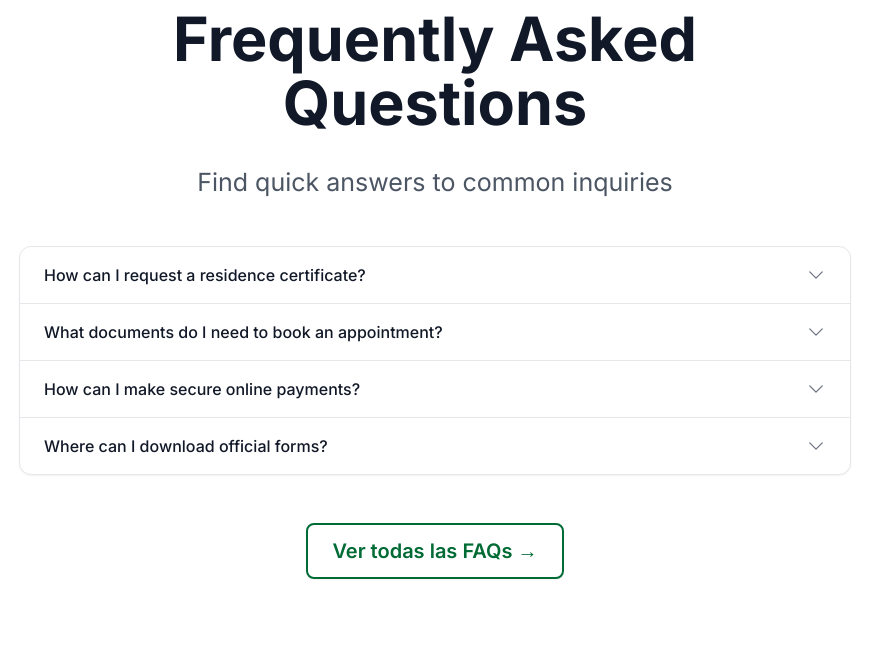
Scenario: FAQPreview Component › Accordion Functionality › allows multiple FAQs to be open simultaneously
The image size is (871, 647).
Click the button "How can I request a residence certificate?" at (205, 275), box [20,246,850,302]
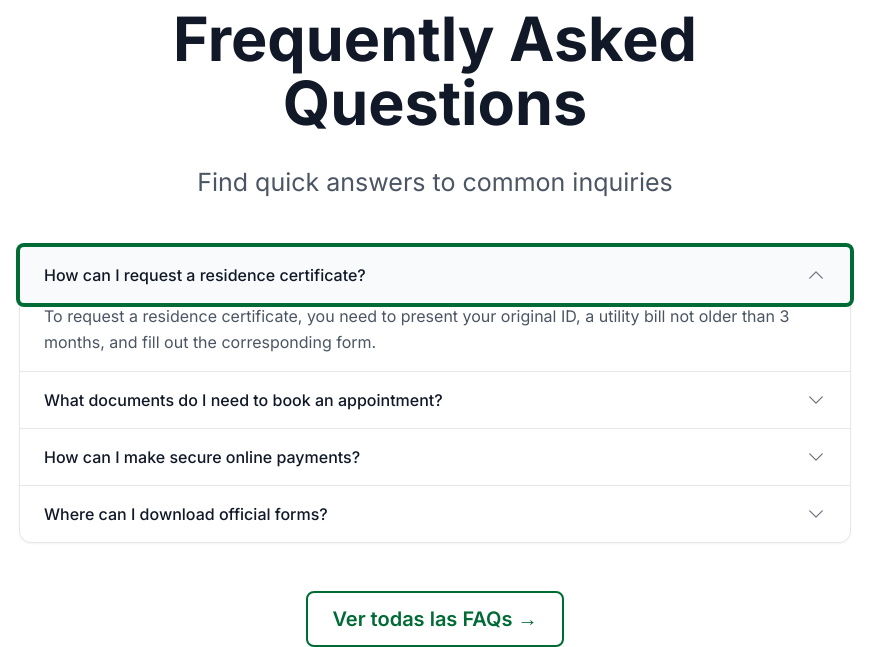
Click the button "What documents do I need to book an appointment?" at (435, 400), box [20,372,850,428]
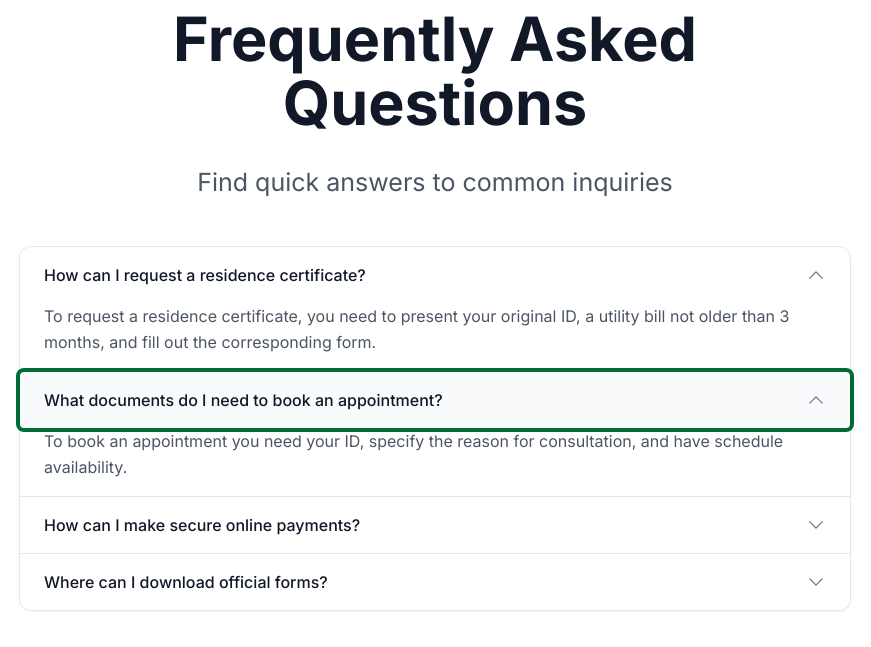
Now the text "To request a residence certificate" is shown, box [44,306,789,352]
Now the text "To book an appointment you need" is shown, box [44,430,783,476]
